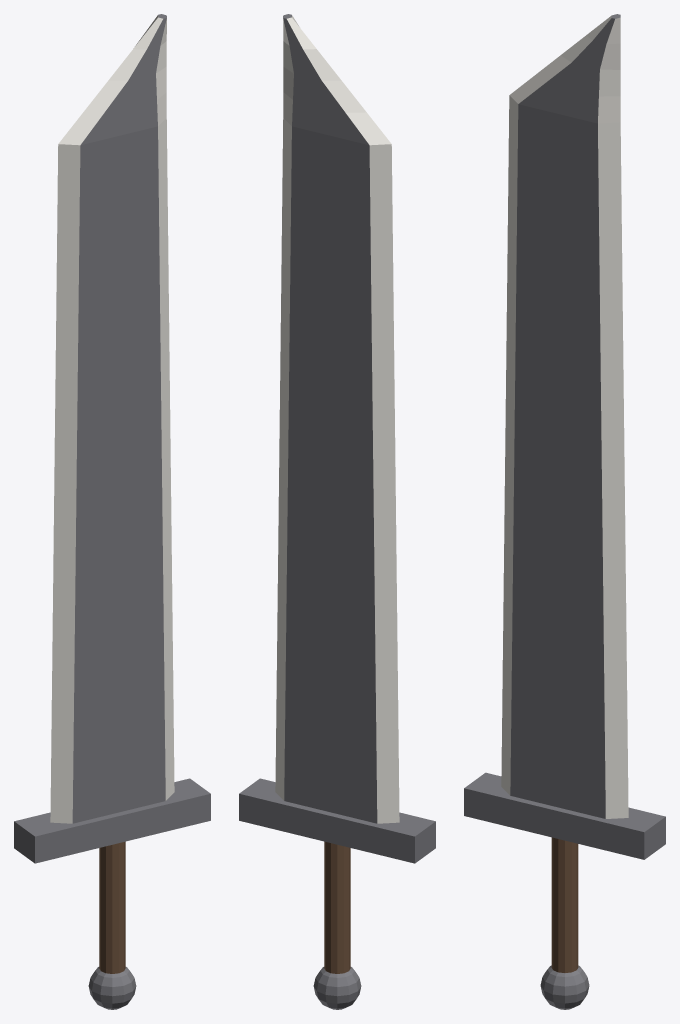
Rendered from slab_blade.glb.
The picture shows the model from 3 angles, left to right: view 1: azimuth 30°, elevation 25°; view 2: azimuth 150°, elevation 25°; view 3: azimuth 330°, elevation 25°; orthographic projection. The views are drawn at different scales.
Parts seen in each view (by area): view 1: blade; view 2: blade; view 3: blade.
Boxes of the visible parts, <box> form: blade: <box>14,14,210,1009</box>; blade: <box>239,14,435,1009</box>; blade: <box>464,14,665,1009</box>.
Size of the model in its own units: 0.34 by 1.81 by 0.08.
